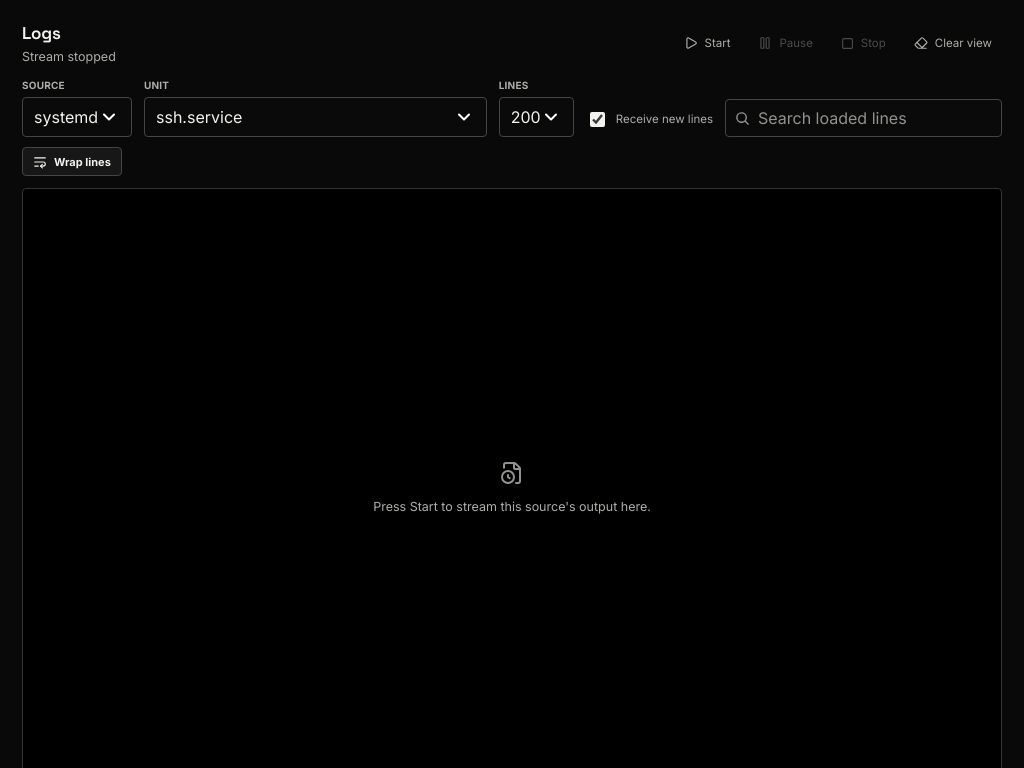
Test: LogsPane reading position › stops a stream whose start completes after the pane unmounts
What coordinates should you click on to do the following:
click the button "Start"
I would click on:
 (707, 43)
Its box is [674,28,740,58].
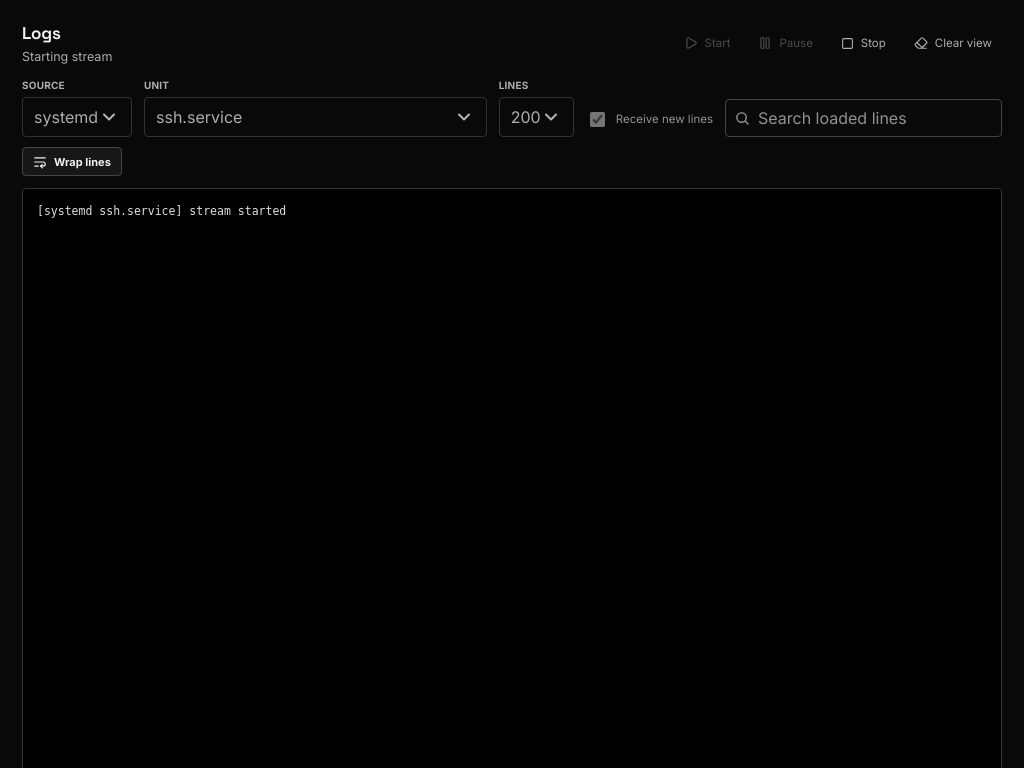
Expected: the text "Starting stream" is shown, [22,49,112,64]
